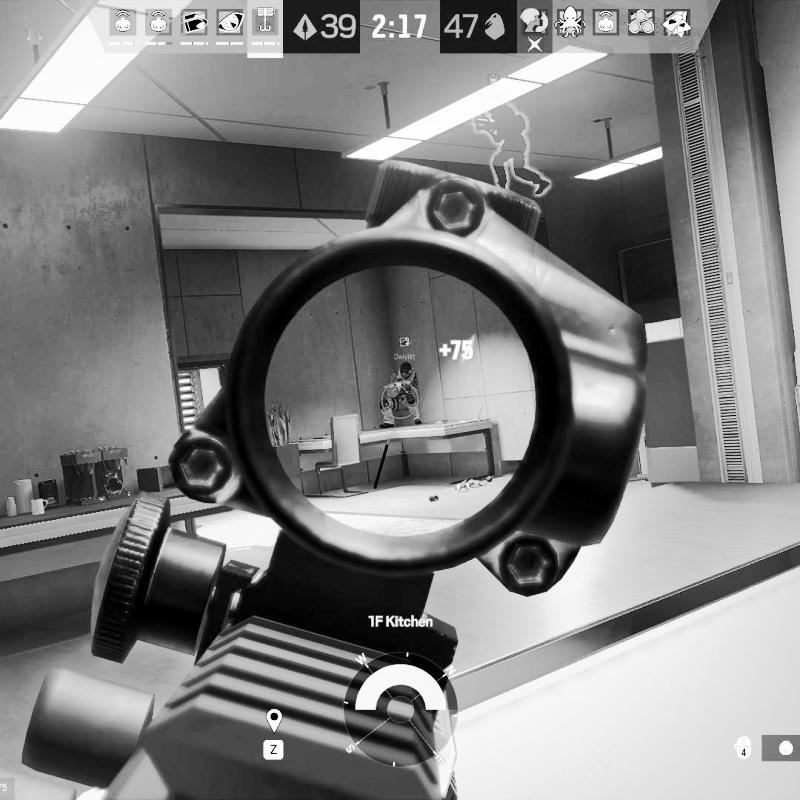Character: (378, 360, 423, 430)
Friend_label: (473, 72, 515, 100), (391, 335, 419, 361)
Head: (399, 362, 412, 378)
